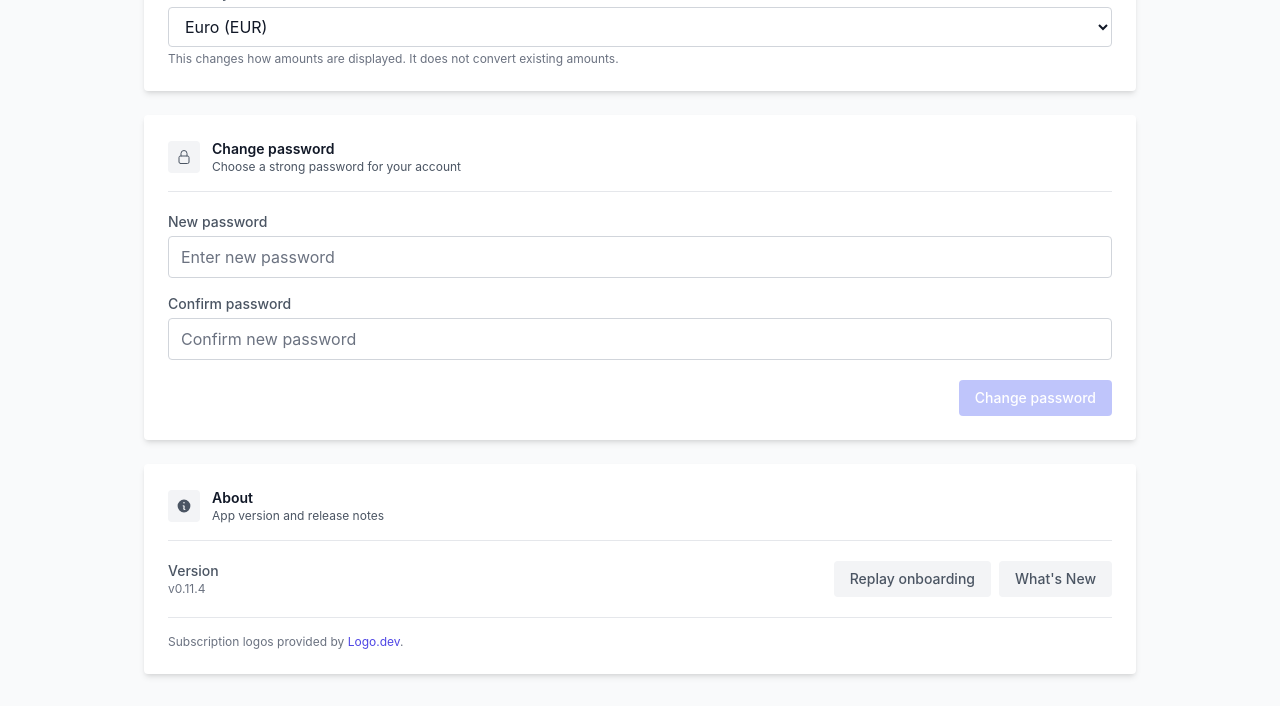
Scenario: Profile › About section › opens the What's New modal when the button is clicked
(page scrolled)
Click the button "What's New": (1056, 579) [999,561,1112,597]
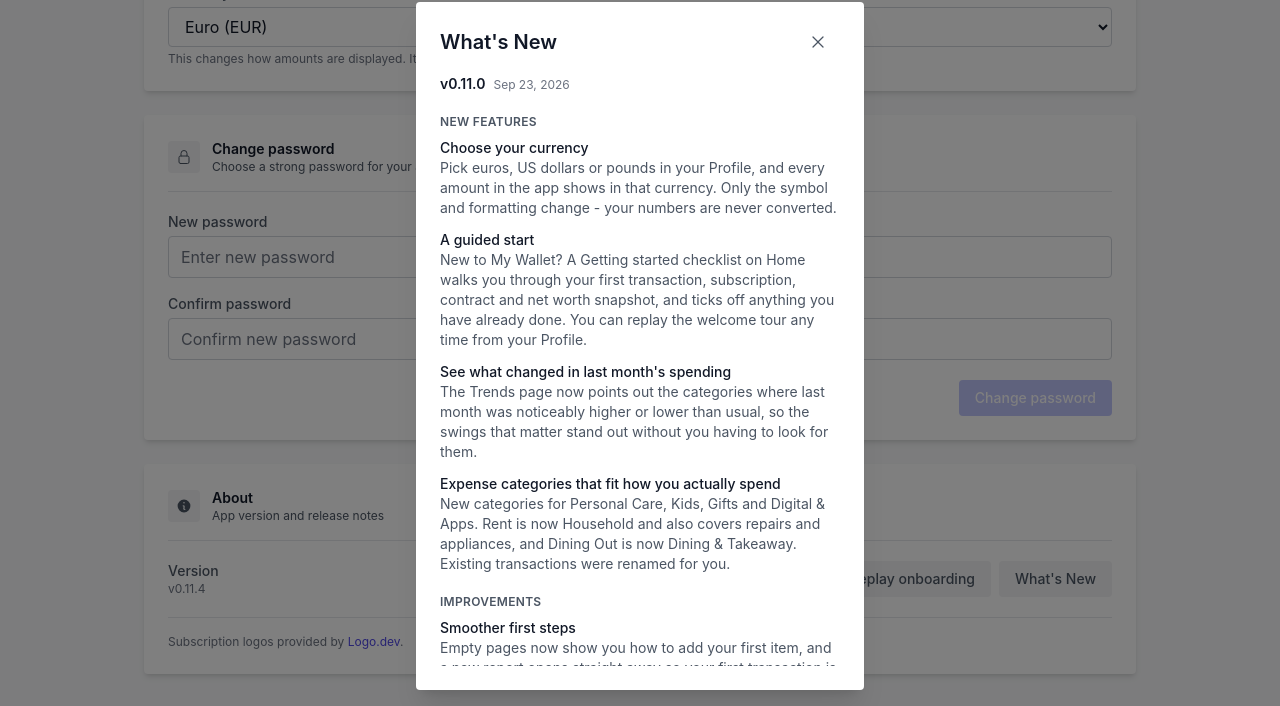
Now the heading "What's New" is shown, box [440,28,557,56]
